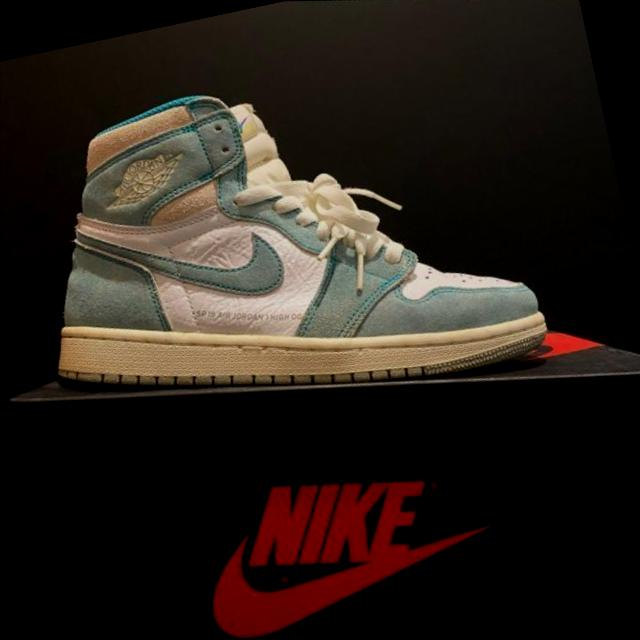nike_original_jordan: (0, 0, 606, 487)
